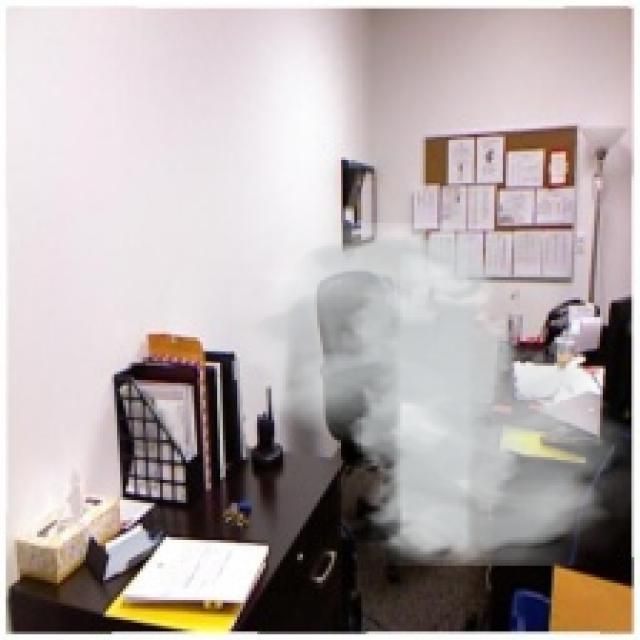Smoke: (232, 223, 637, 566)
